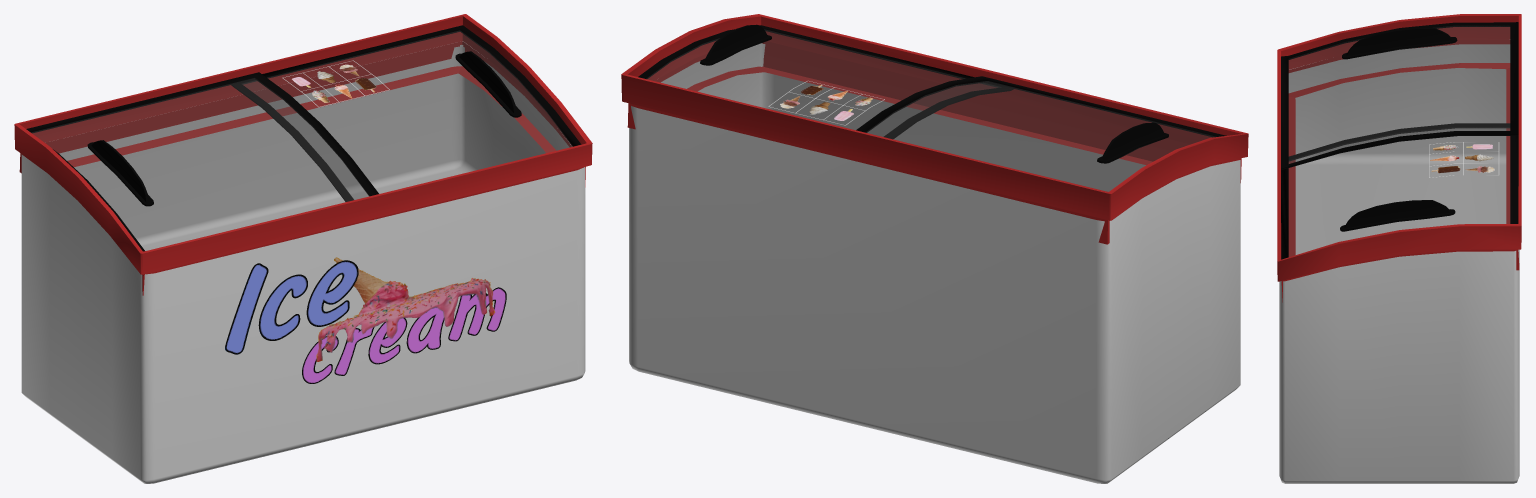
Rendered from Fridge_Ice_Cream.fbx.
3 renders of one model, left to right at view 1: azimuth 30°, elevation 25°; view 2: azimuth 150°, elevation 25°; view 3: azimuth 270°, elevation 25°, orthographic. The views are drawn at different scales.
Parts seen in each view (by area): view 1: Fridge_Ice_Cream; view 2: Fridge_Ice_Cream; view 3: Fridge_Ice_Cream.
Boxes of the visible parts, x1=… form: Fridge_Ice_Cream: x1=14, y1=14, x2=592, y2=483; Fridge_Ice_Cream: x1=621, y1=14, x2=1248, y2=483; Fridge_Ice_Cream: x1=1277, y1=14, x2=1521, y2=483.
Bounding box in the file's own units: 64.12 × 37.87 × 31.2.
6 materials, 2 textured.
